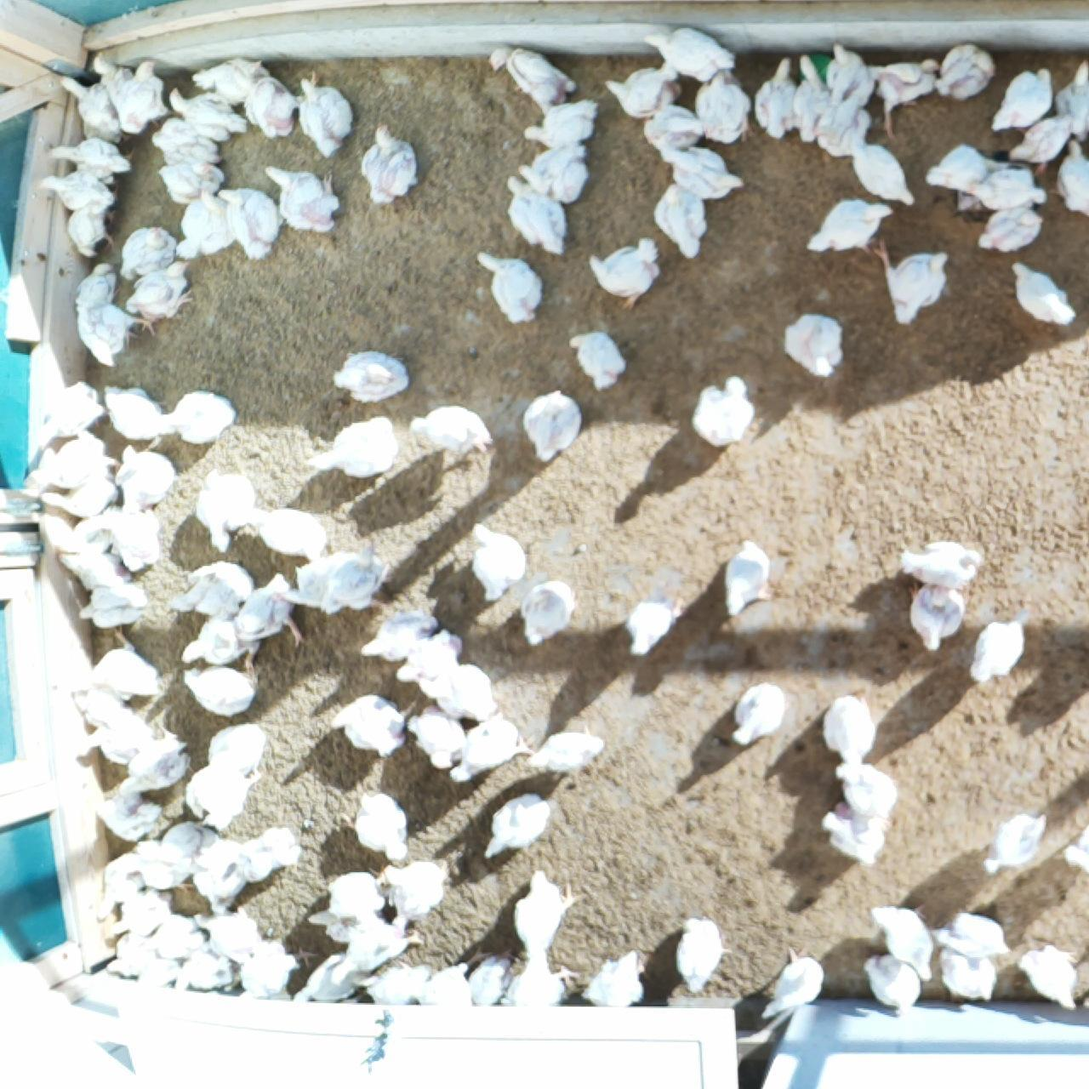chicken: (868, 229, 954, 331), (299, 411, 401, 491), (273, 541, 391, 608), (446, 707, 536, 789), (319, 534, 392, 631), (191, 455, 263, 552), (328, 779, 411, 863), (237, 570, 311, 664), (324, 919, 423, 989), (507, 861, 582, 952), (412, 654, 508, 725), (470, 244, 547, 331), (584, 228, 661, 314), (867, 897, 941, 985), (461, 513, 531, 606), (636, 21, 736, 86), (966, 604, 1035, 697), (326, 687, 419, 756), (1006, 254, 1078, 342), (865, 55, 940, 139), (292, 64, 358, 158), (1012, 932, 1089, 1012), (259, 158, 339, 235), (646, 177, 716, 264), (84, 626, 160, 706), (755, 941, 828, 1024), (691, 365, 759, 453), (374, 856, 455, 929), (482, 44, 574, 108), (24, 435, 125, 493), (120, 724, 198, 799), (235, 930, 318, 1000), (182, 758, 265, 828), (357, 121, 422, 210), (476, 791, 554, 864), (408, 402, 501, 463), (670, 909, 733, 999), (329, 336, 410, 406), (651, 142, 741, 205), (76, 299, 160, 366), (803, 196, 893, 258), (716, 534, 781, 618), (895, 531, 987, 590), (158, 377, 239, 444), (126, 253, 199, 327), (111, 441, 183, 515), (498, 173, 569, 248), (848, 136, 916, 214), (518, 384, 585, 463), (976, 811, 1056, 877), (774, 308, 846, 380), (528, 725, 610, 788), (905, 576, 971, 654), (237, 506, 333, 559), (164, 83, 247, 144), (752, 50, 804, 147), (988, 65, 1057, 138), (819, 688, 881, 769), (171, 185, 233, 266), (623, 571, 679, 660), (170, 609, 253, 669), (728, 677, 795, 751), (513, 573, 579, 648), (219, 182, 282, 260), (817, 806, 897, 867), (827, 761, 902, 826), (83, 774, 158, 839), (696, 63, 753, 148), (522, 94, 602, 154), (358, 607, 442, 664), (404, 700, 467, 776), (602, 61, 683, 120), (59, 72, 128, 141), (106, 500, 167, 577), (931, 910, 1013, 967), (191, 836, 252, 912), (182, 655, 259, 715), (935, 945, 1006, 1010), (1005, 108, 1076, 173), (580, 942, 652, 1005), (521, 143, 593, 205), (501, 953, 580, 1009), (564, 328, 631, 394), (859, 952, 924, 1020), (234, 827, 305, 889), (397, 626, 469, 687), (966, 159, 1047, 213), (198, 718, 268, 780), (931, 37, 997, 102), (353, 952, 434, 1004), (36, 167, 120, 217), (925, 144, 996, 203), (172, 557, 249, 611), (100, 382, 168, 442), (190, 52, 270, 103), (45, 134, 131, 181), (42, 378, 105, 442), (789, 51, 830, 149), (814, 94, 873, 162), (314, 871, 389, 924), (192, 905, 262, 961), (633, 101, 703, 156), (149, 117, 224, 168), (294, 950, 365, 1003), (117, 224, 182, 281), (968, 206, 1043, 255), (79, 579, 151, 630), (124, 58, 171, 136), (129, 841, 191, 900), (243, 74, 296, 143), (82, 716, 152, 768), (154, 154, 225, 205), (99, 503, 161, 561), (35, 474, 118, 517), (93, 853, 140, 927), (139, 912, 208, 962), (60, 196, 115, 258), (105, 885, 174, 934), (464, 952, 517, 1012), (410, 958, 473, 1008), (1053, 134, 1089, 220), (102, 931, 159, 981), (54, 546, 123, 587), (89, 48, 131, 112), (1056, 58, 1089, 139), (75, 260, 117, 321), (175, 949, 235, 991), (71, 685, 134, 724), (165, 822, 216, 858), (834, 54, 872, 101), (133, 954, 181, 988), (308, 901, 354, 932), (1062, 823, 1089, 875)
